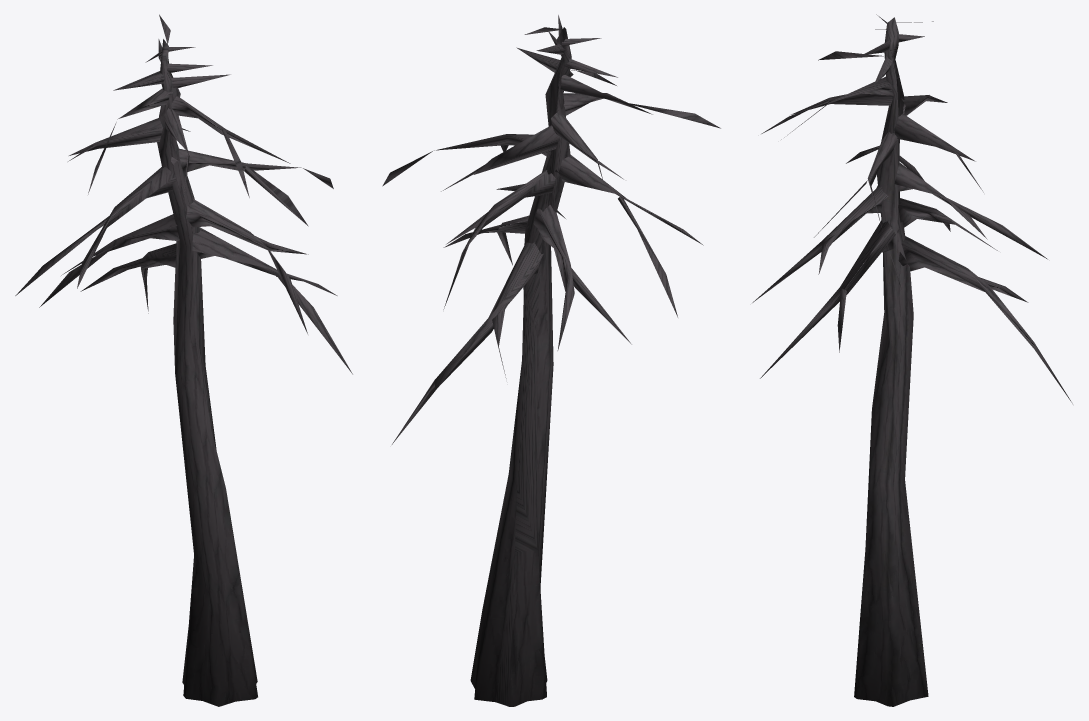
File: DeadTree_3.low.gltf
3 renders of one model, left to right at view 1: azimuth 30°, elevation 25°; view 2: azimuth 150°, elevation 25°; view 3: azimuth 270°, elevation 25°, orthographic. The views are drawn at different scales.
Visible parts, largest first — view 1: DeadTree_3; view 2: DeadTree_3; view 3: DeadTree_3.
Boxes of the visible parts, <box> form: DeadTree_3: <box>15,14,352,706</box>; DeadTree_3: <box>382,15,720,706</box>; DeadTree_3: <box>752,14,1072,706</box>.
Size of the model in its own units: 6.33 by 13.24 by 5.99.
Materials: 1 (1 with a texture image).
